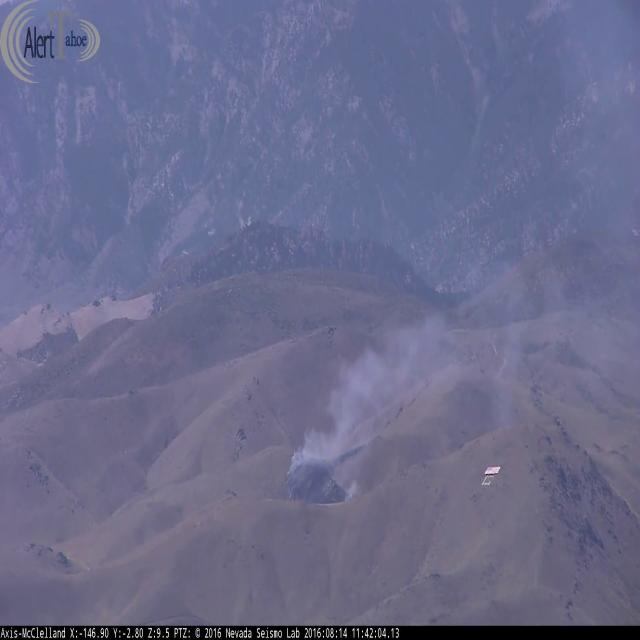smoke: (435, 235, 640, 433), (284, 304, 447, 496)
